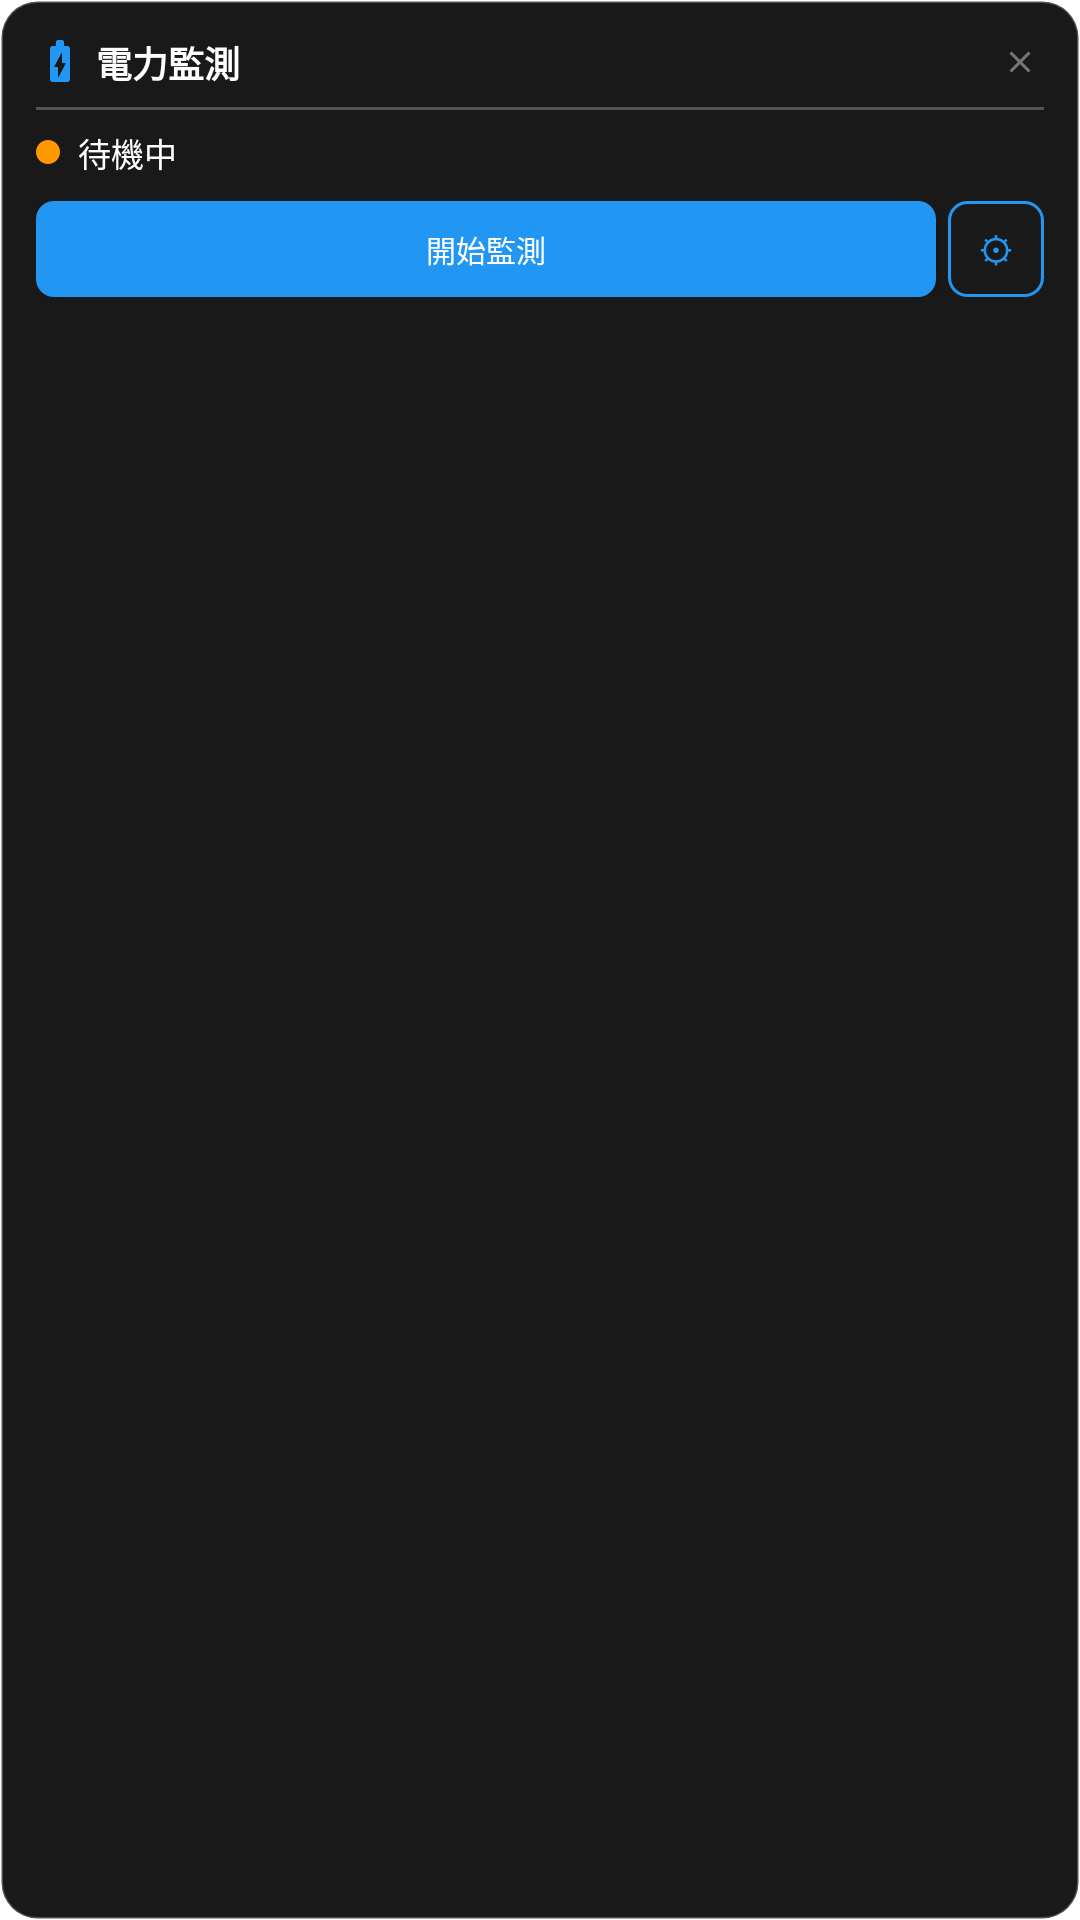

Icon click points for this 1080x1920 phone screenshot, format [x,y]:
battery: [60,61]
